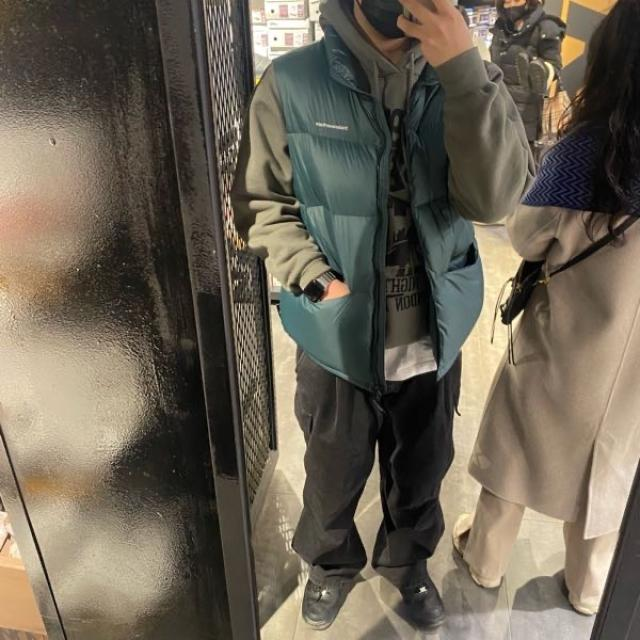denimpants: (298, 336, 451, 584)
padding: (272, 33, 484, 381)
